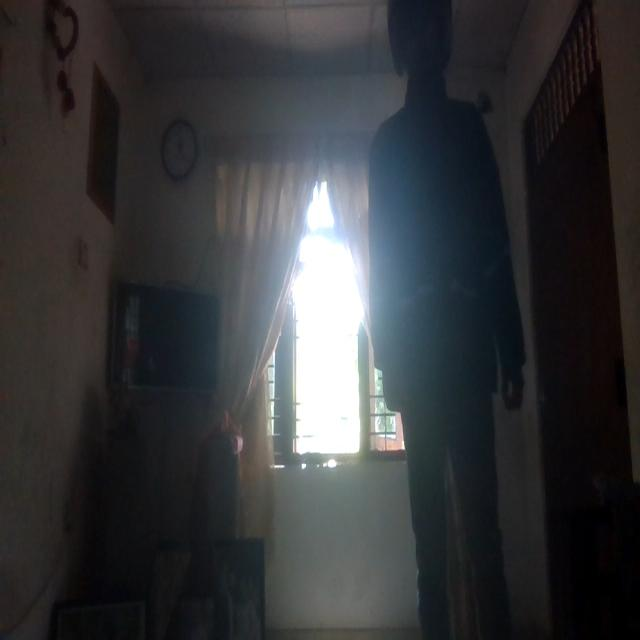Helmet_Wearer: (385, 0, 464, 116)
Jacket_Wearer: (371, 98, 527, 429)
Person: (363, 0, 539, 640)
